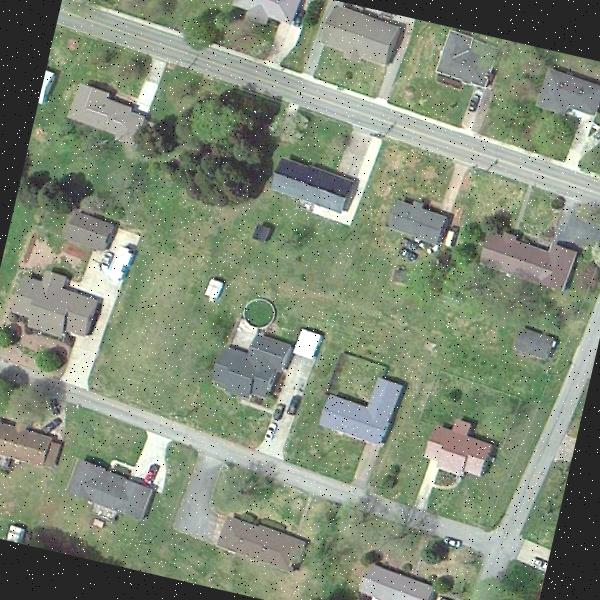Buildings: (5, 269, 108, 352), (477, 223, 579, 295), (317, 368, 400, 443), (426, 28, 503, 106), (212, 330, 288, 404), (58, 82, 148, 144), (66, 454, 150, 520), (216, 512, 312, 568), (318, 5, 403, 66), (425, 420, 499, 486), (269, 162, 346, 210), (221, 0, 297, 48), (0, 420, 63, 473), (535, 74, 600, 125), (386, 194, 446, 247), (359, 566, 437, 600), (66, 210, 108, 243)
